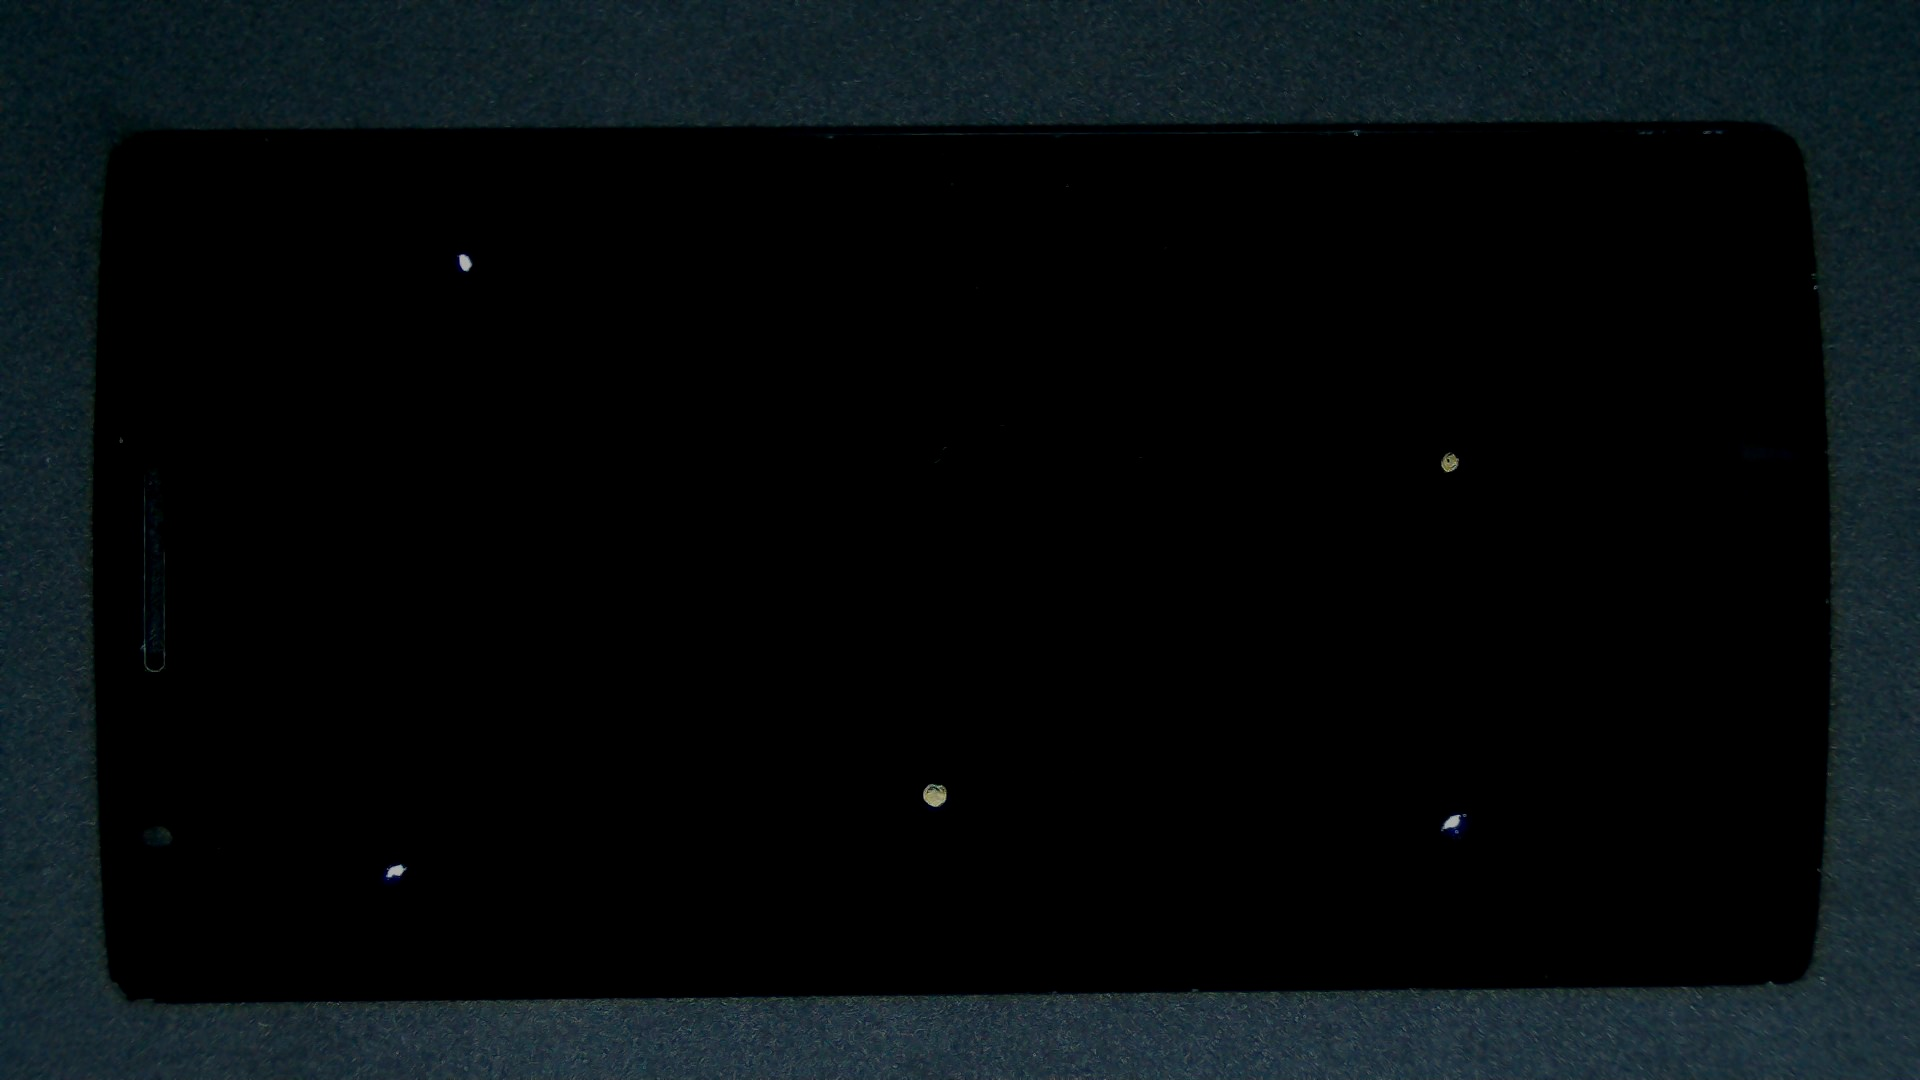oil: (732, 406, 1920, 1080), (471, 390, 1411, 1080), (724, 224, 1920, 678), (202, 430, 603, 1080), (232, 125, 695, 377)
